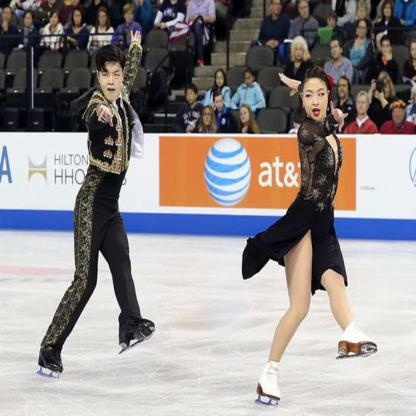face: (305, 80, 327, 121), (101, 63, 124, 101), (332, 41, 342, 60), (358, 97, 369, 114), (394, 106, 405, 123), (339, 80, 348, 98), (381, 81, 391, 97), (204, 109, 212, 126), (241, 108, 249, 124), (126, 8, 134, 24), (187, 90, 196, 104), (216, 97, 224, 112), (383, 41, 391, 56), (301, 3, 309, 18), (296, 45, 303, 61), (359, 23, 367, 37), (25, 14, 33, 27), (74, 13, 82, 26), (217, 73, 224, 87), (274, 1, 281, 14), (100, 12, 107, 25), (246, 73, 253, 85), (360, 7, 367, 19), (329, 17, 336, 29), (51, 13, 58, 25), (385, 4, 391, 17), (412, 45, 416, 60), (4, 11, 9, 21)
